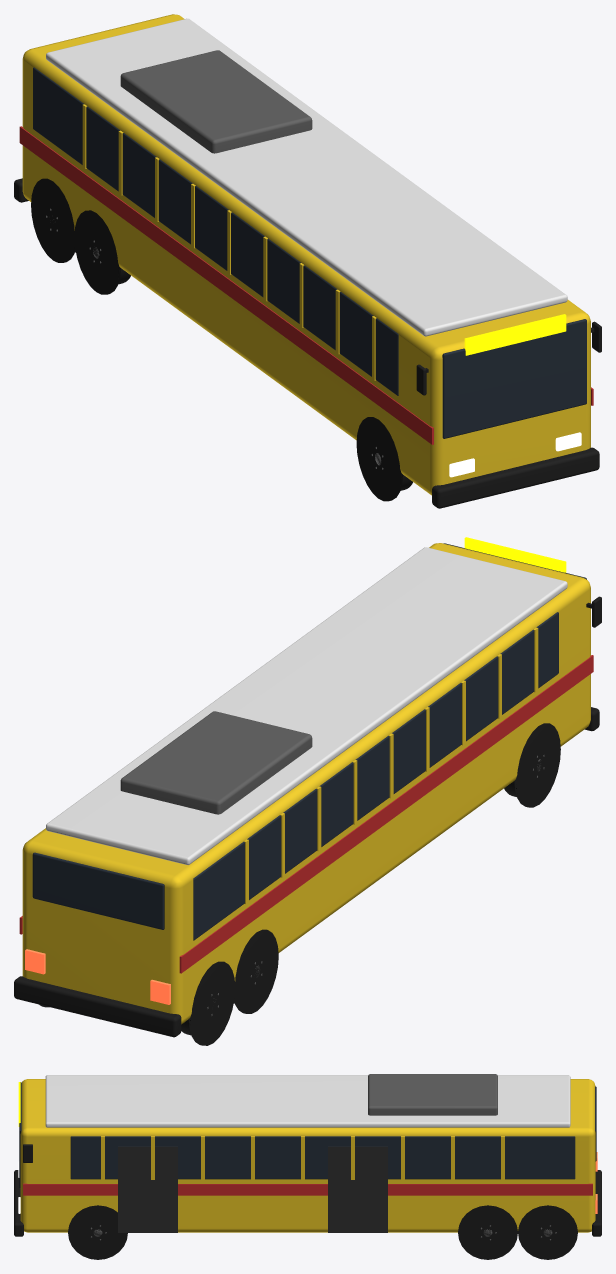
The model's file is brt.glb.
3 views of the same model, one above another, from view 1: azimuth 30°, elevation 25°; view 2: azimuth 150°, elevation 25°; view 3: azimuth 270°, elevation 25° (orthographic). The views are drawn at different scales.
Visible parts, largest first — view 1: V_brt; view 2: V_brt; view 3: V_brt.
Part boxes in pixels (x1,y1,x2,y2): V_brt: [14, 14, 601, 508]; V_brt: [14, 537, 601, 1045]; V_brt: [14, 1074, 601, 1259].
Bounding box in the file's own units: 2.86 × 3.15 × 11.76.
